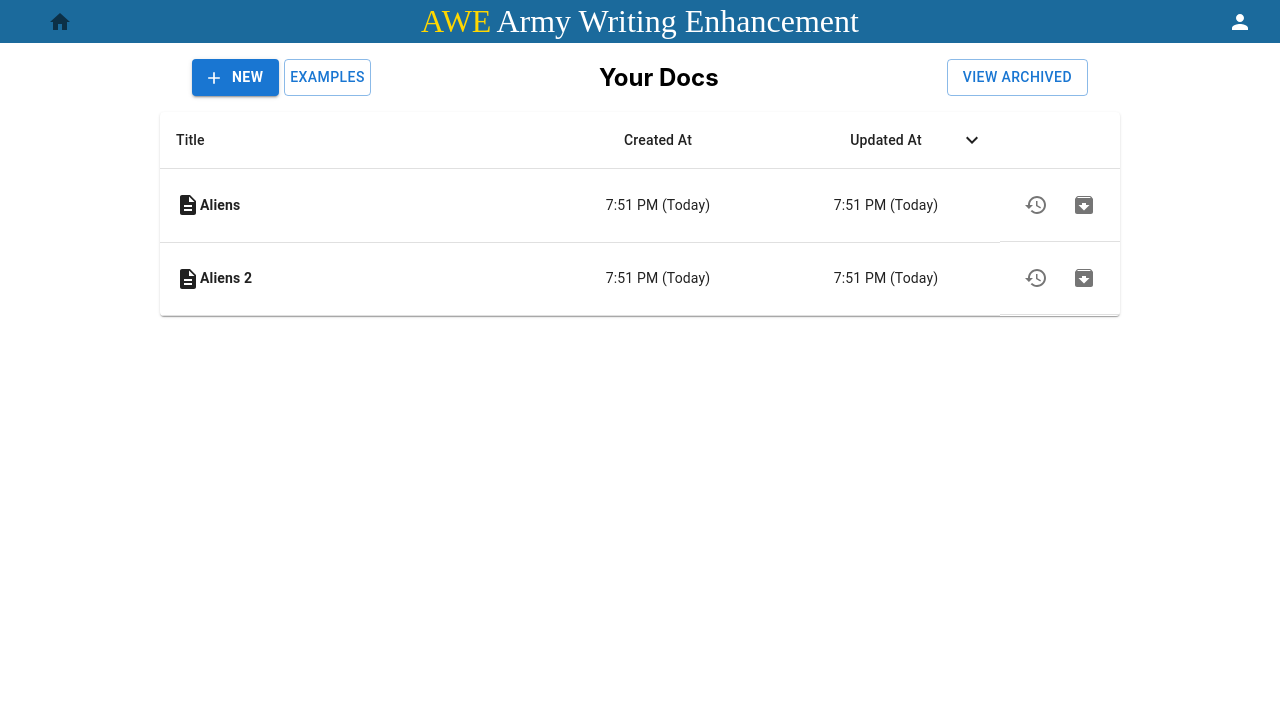
Test: activity builder › content managers › can only delete their own activities
Expected: the button with test id "toggle-view-archived" is shown, [947, 59, 1088, 96]
Click the button with test id "profile-button" at (1240, 22), box [1220, 2, 1260, 42]
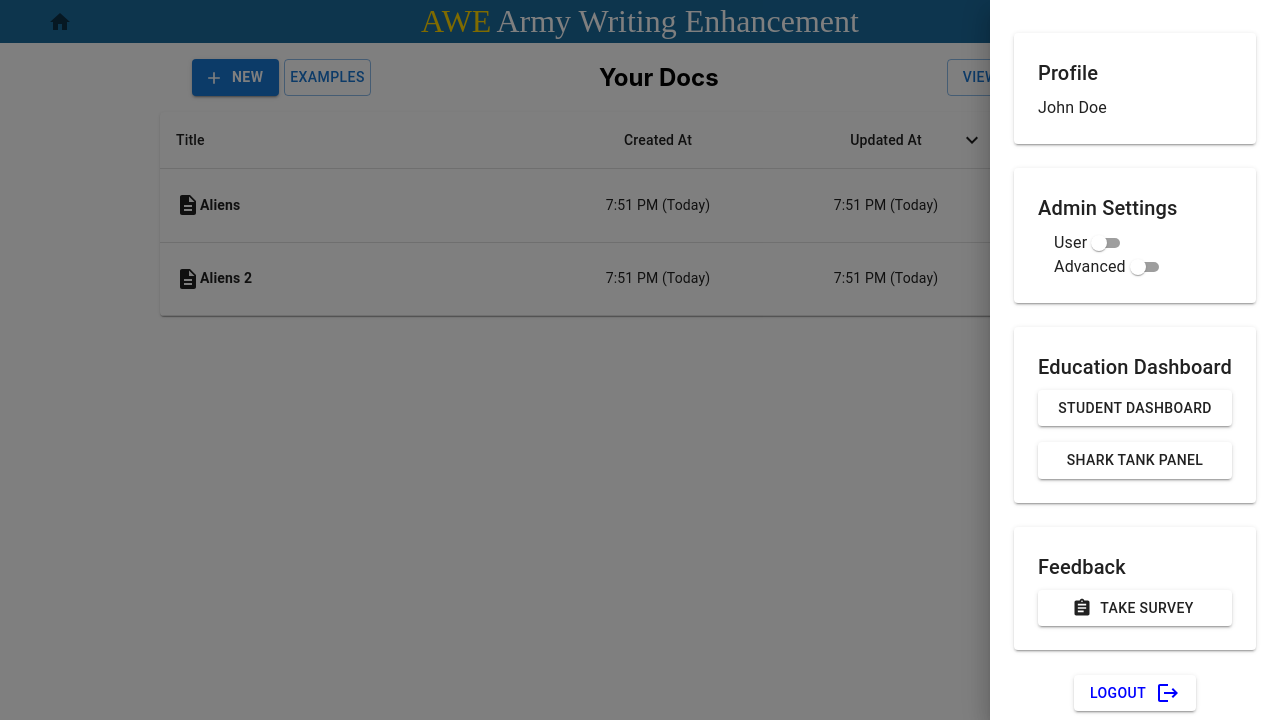
Now the checkbox with test id "role-switch" reads "User"
Click the checkbox with test id "role-switch" at (1091, 243), box [1054, 231, 1127, 255]
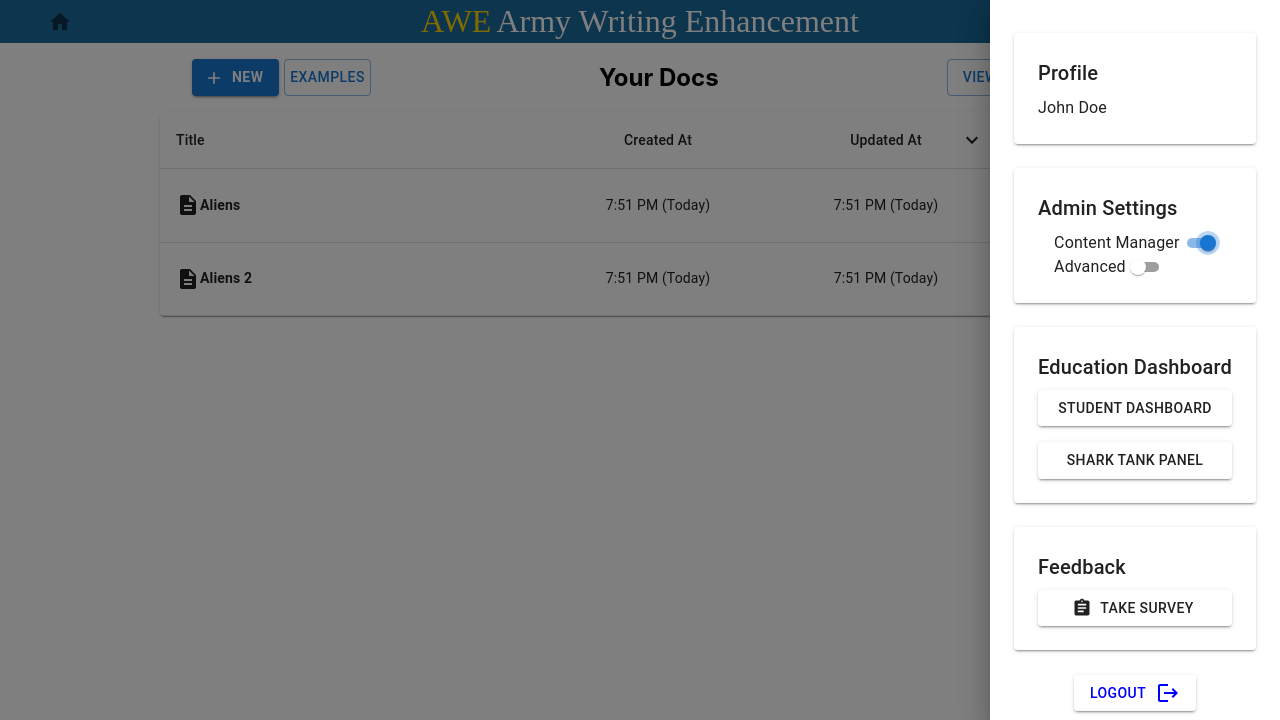
Now the checkbox with test id "role-switch" reads "Content Manager", box [1054, 231, 1220, 255]
Click the element that starts with "AWE" at (0, 0), box [0, 0, 1279, 719]
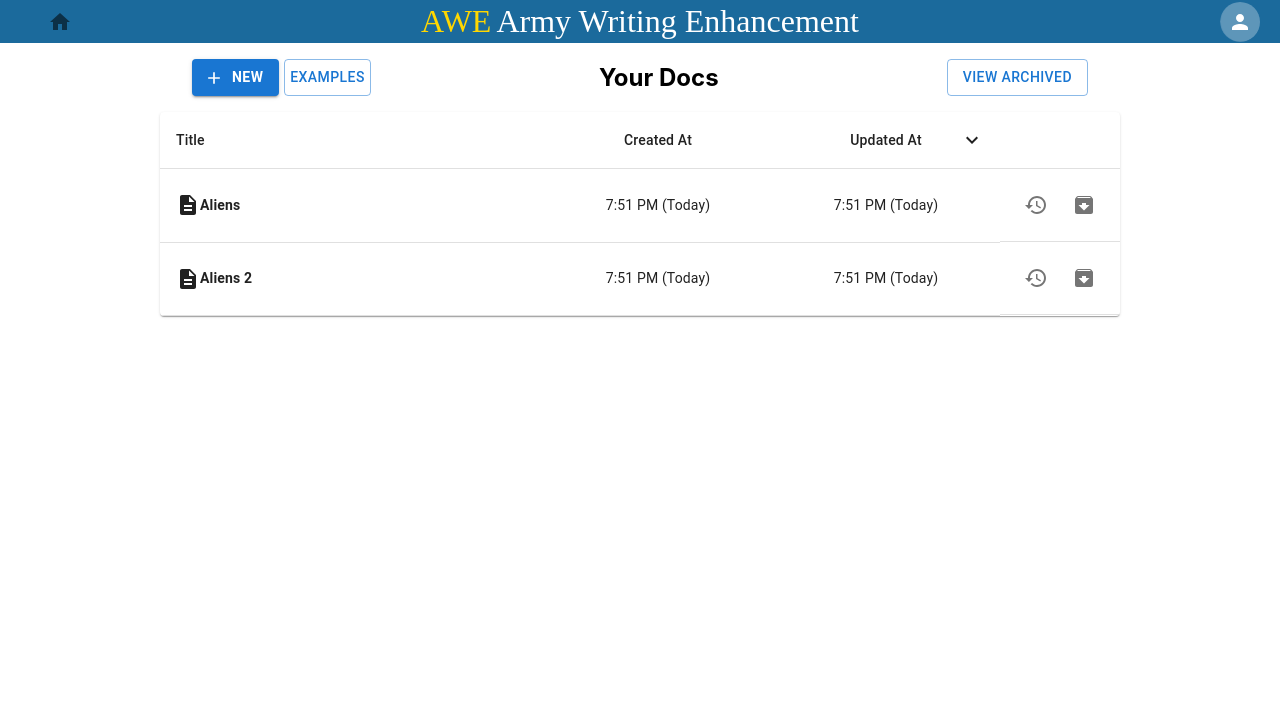
Click the text with test id "doc-list-item-Aliens" at (220, 205), box [200, 195, 240, 215]
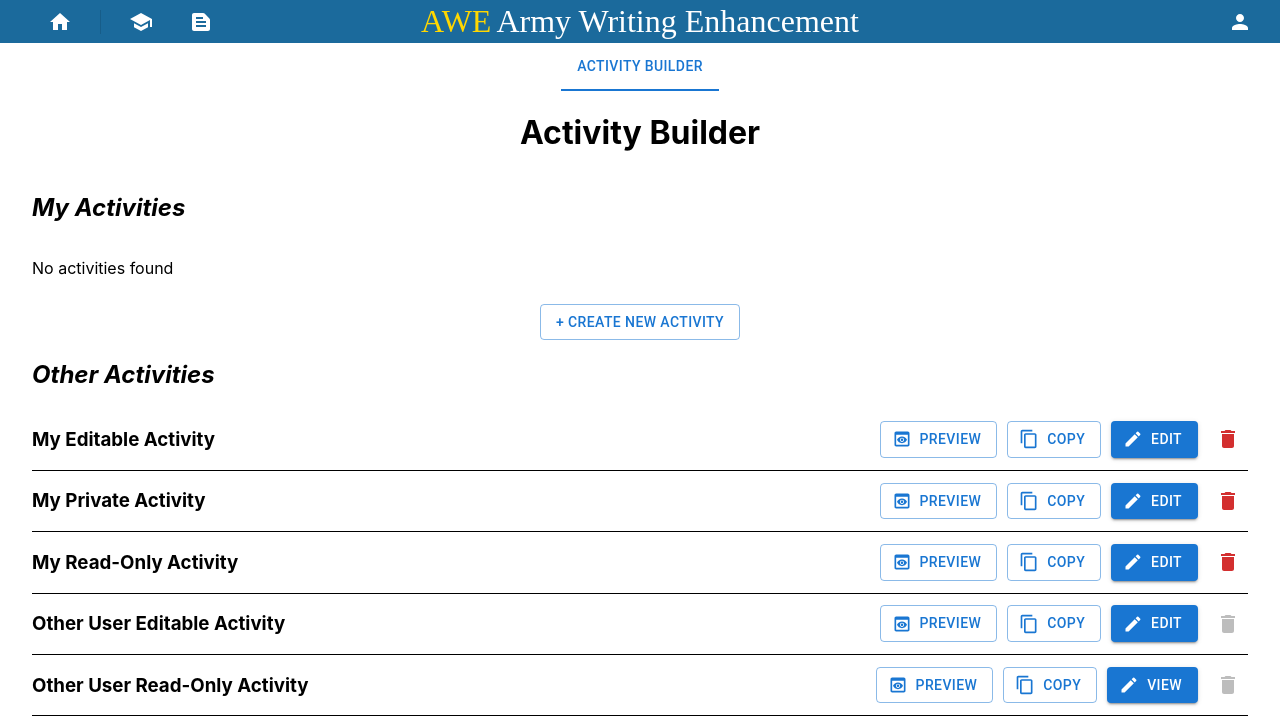
Now the element with test id "activity-item-my-editable-activity" is shown, box [32, 409, 1248, 470]
Click the button with test id "activity-item-delete-my-editable-activity" at (1228, 439), box [1208, 419, 1248, 459]
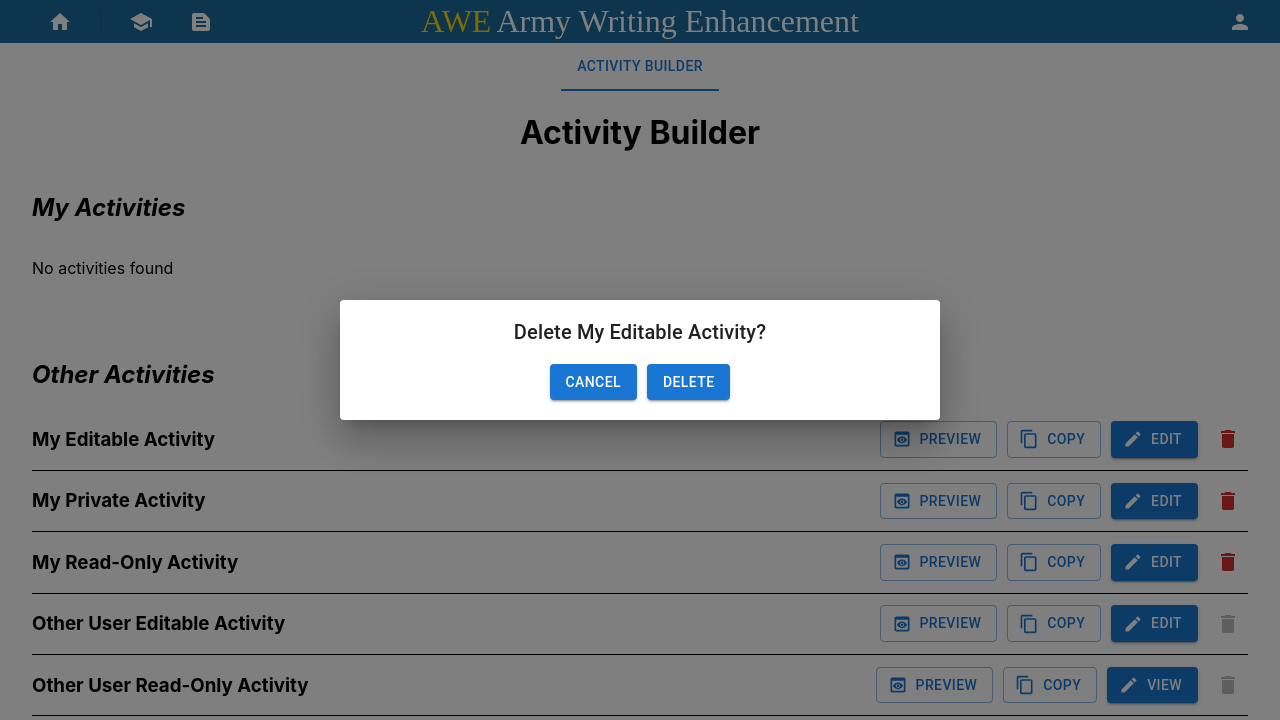
Click the button with test id "option-2" at (689, 383), box [647, 364, 731, 401]
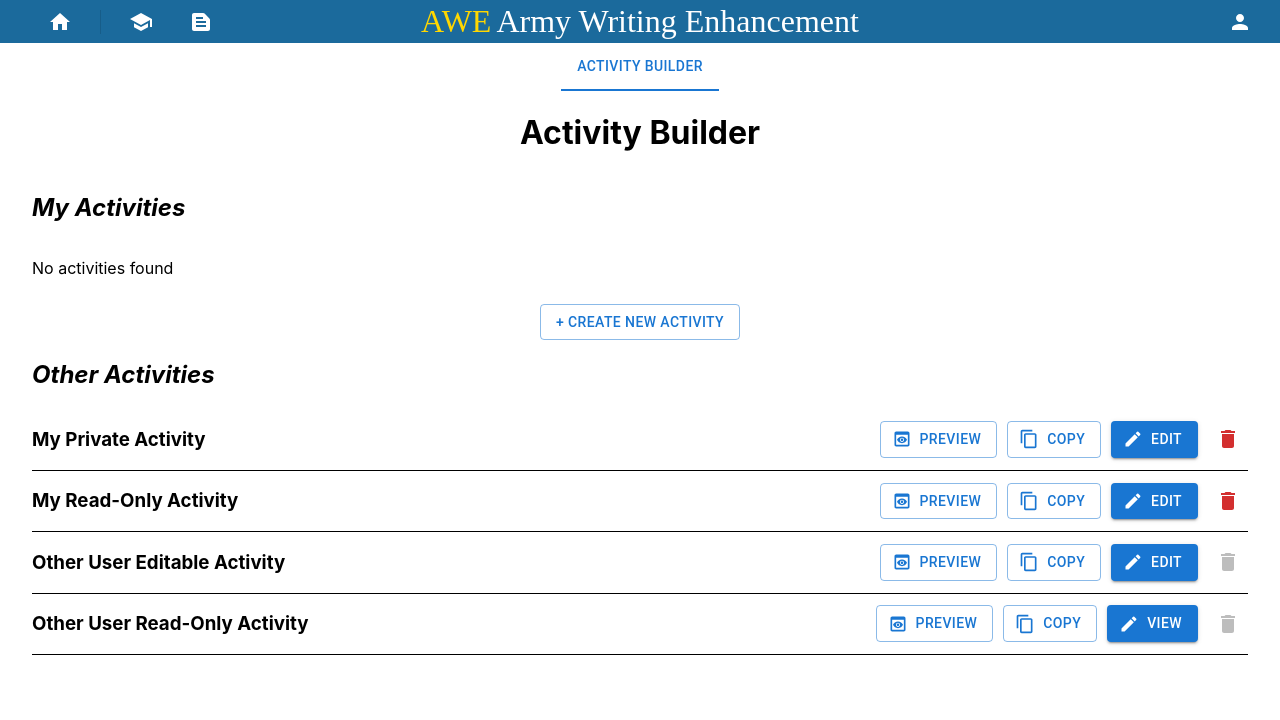
Now the element with test id "activity-item-other-user-editable-activity" is shown, box [32, 532, 1248, 593]
Now the button with test id "activity-item-delete-other-user-editable-activity" is disabled, box [1208, 542, 1248, 582]
Now the element with test id "activity-item-my-editable-activity" is gone
